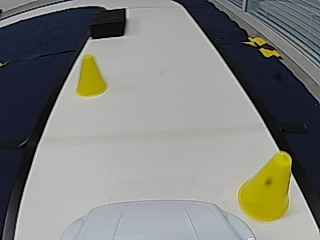block: (90, 9, 126, 38)
cone: (239, 151, 291, 222), (77, 55, 108, 98)
